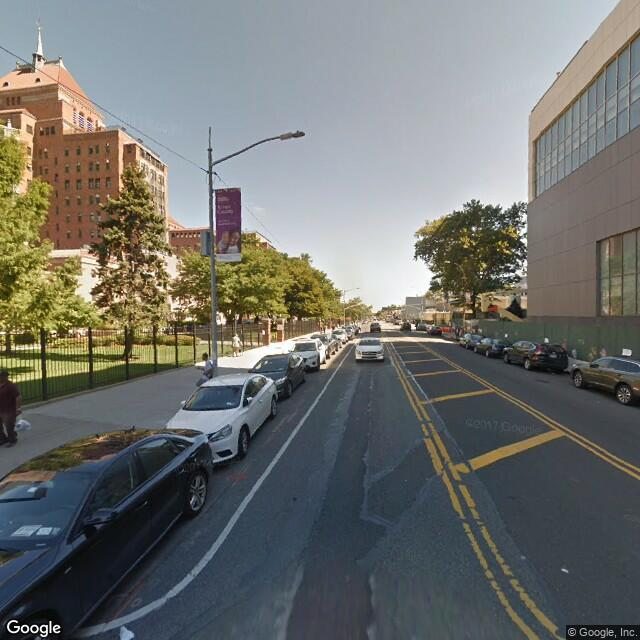litter: (561, 566, 571, 577)
